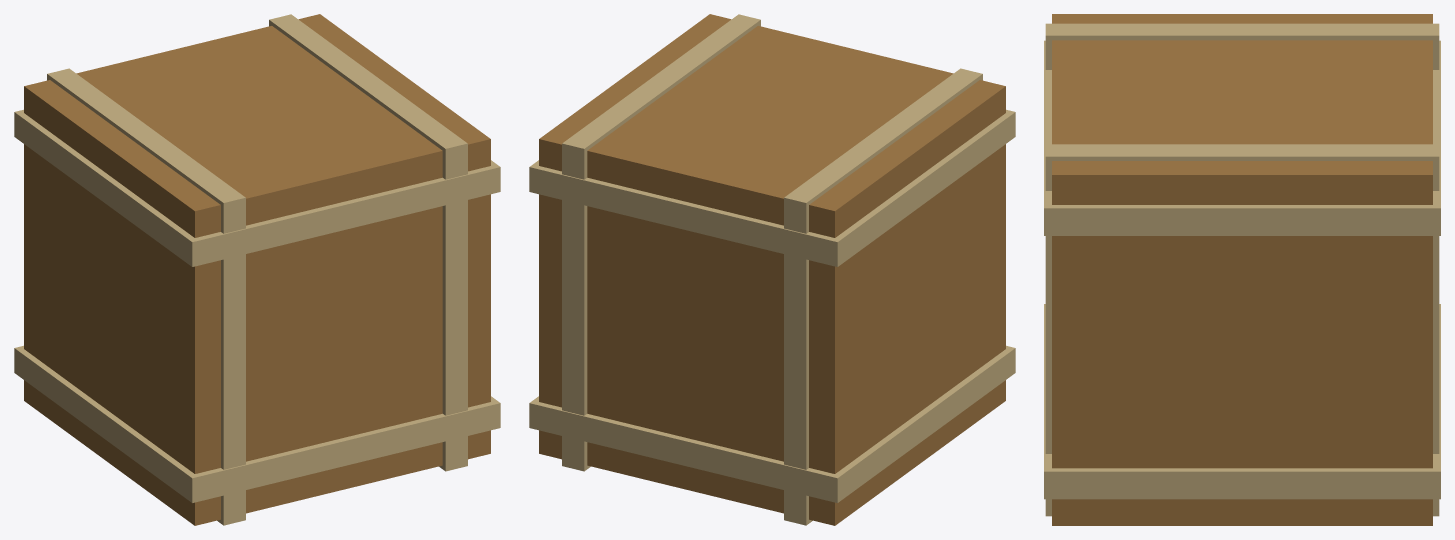
Rendered from crate.glb.
The picture shows the model from 3 angles, left to right: view 1: azimuth 30°, elevation 25°; view 2: azimuth 150°, elevation 25°; view 3: azimuth 270°, elevation 25°; orthographic projection. The views are drawn at different scales.
Parts seen in each view (by area): view 1: crate_body; view 2: crate_body; view 3: crate_body.
Part boxes in pixels (x1,y1,x2,y2): crate_body: (14,14,500,525); crate_body: (529,14,1015,525); crate_body: (1044,14,1440,525).
Size of the model in its own units: 1 by 1 by 1.
